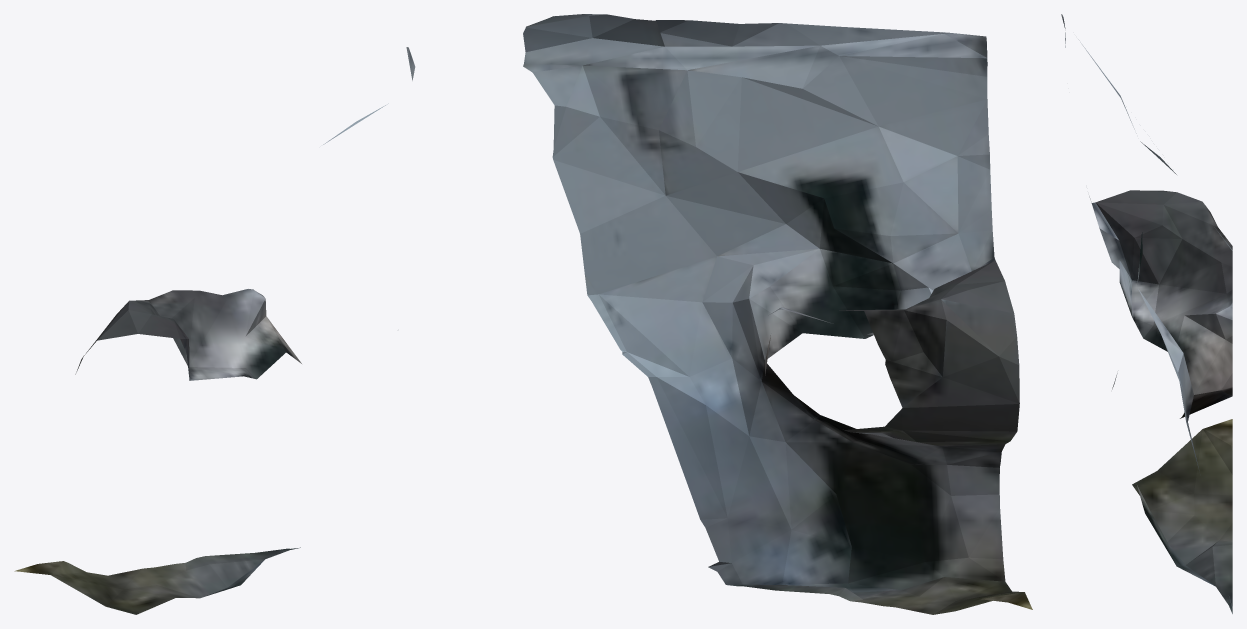
3 renders of one model, left to right at view 1: azimuth 30°, elevation 25°; view 2: azimuth 150°, elevation 25°; view 3: azimuth 270°, elevation 25°, orthographic. The views are drawn at different scales.
Size of the model in its own units: 6.44 by 6.36 by 1.91.
1 material, 1 textured.
